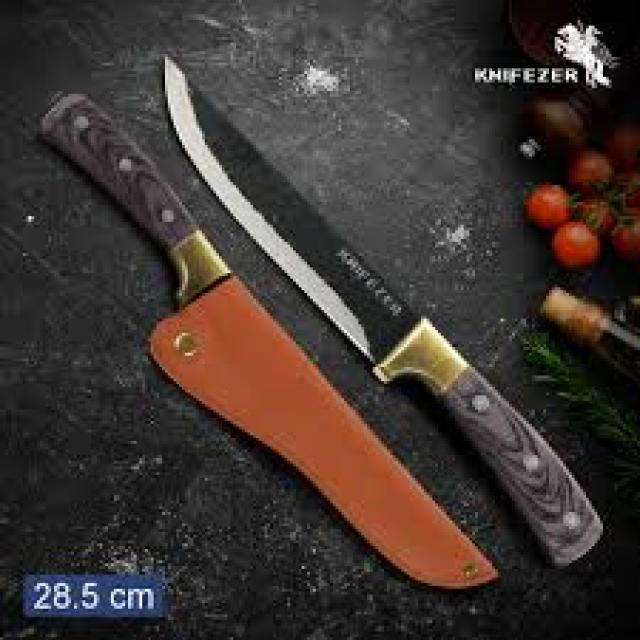Knife: (40, 94, 495, 589), (165, 57, 597, 563)
